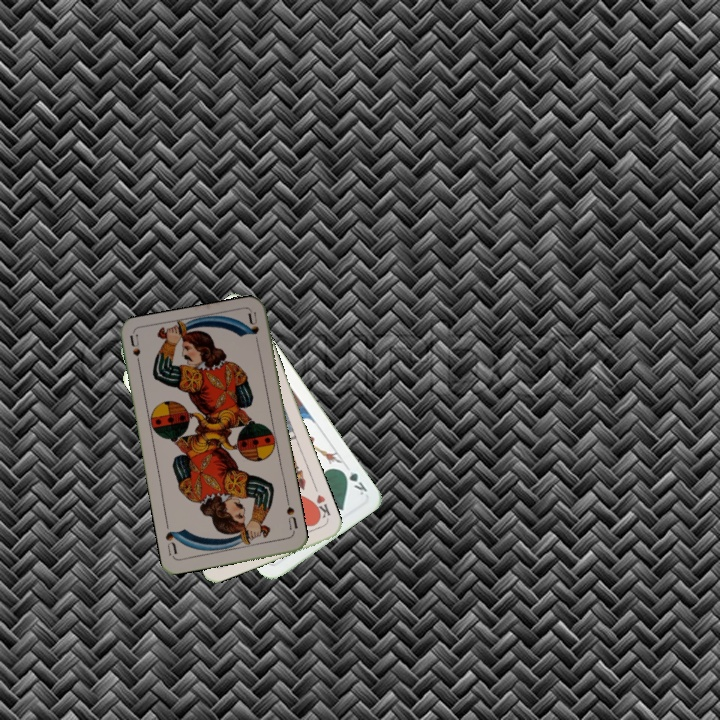GK: (337, 465, 370, 498)
HK: (308, 491, 333, 524)
SU: (282, 496, 300, 537), (126, 332, 143, 373)
